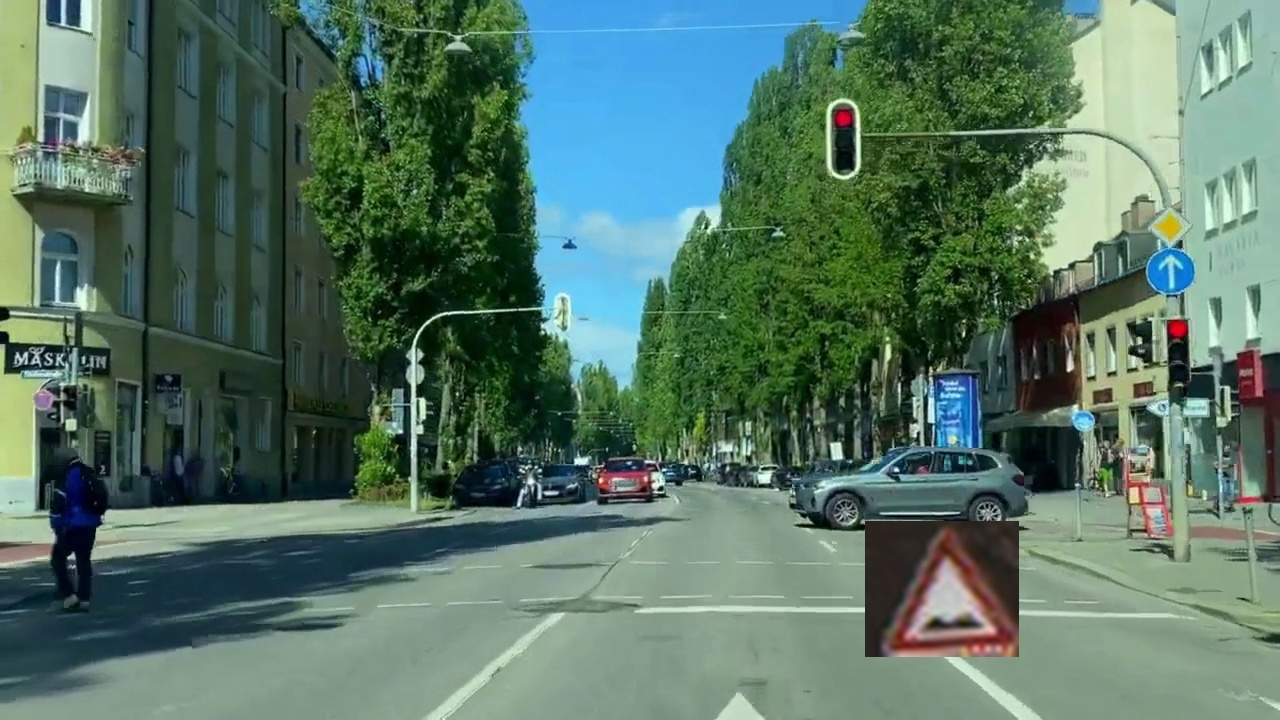Bumpy road: (865, 521, 1019, 657)
